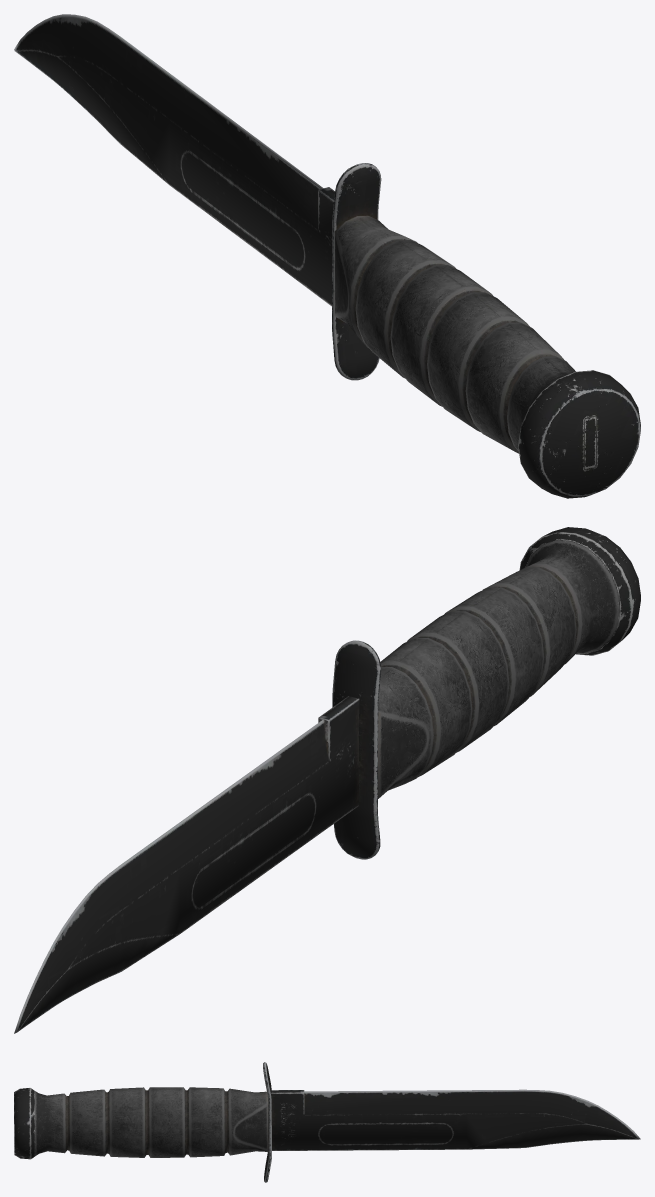
The model's file is kabar.glb.
The picture shows the model from 3 angles, top to bottom: view 1: azimuth 30°, elevation 25°; view 2: azimuth 150°, elevation 25°; view 3: azimuth 270°, elevation 25°; orthographic projection. The views are drawn at different scales.
Visible parts, largest first — view 1: Object_4; view 2: Object_4; view 3: Object_4.
Part boxes in pixels (x1,y1,x2,y2): Object_4: (14,14,640,498); Object_4: (14,527,640,1033); Object_4: (14,1062,640,1182).
Bounding box in the file's own units: 1.84 × 3.32 × 16.01.
Materials: 1 (1 with a texture image).
